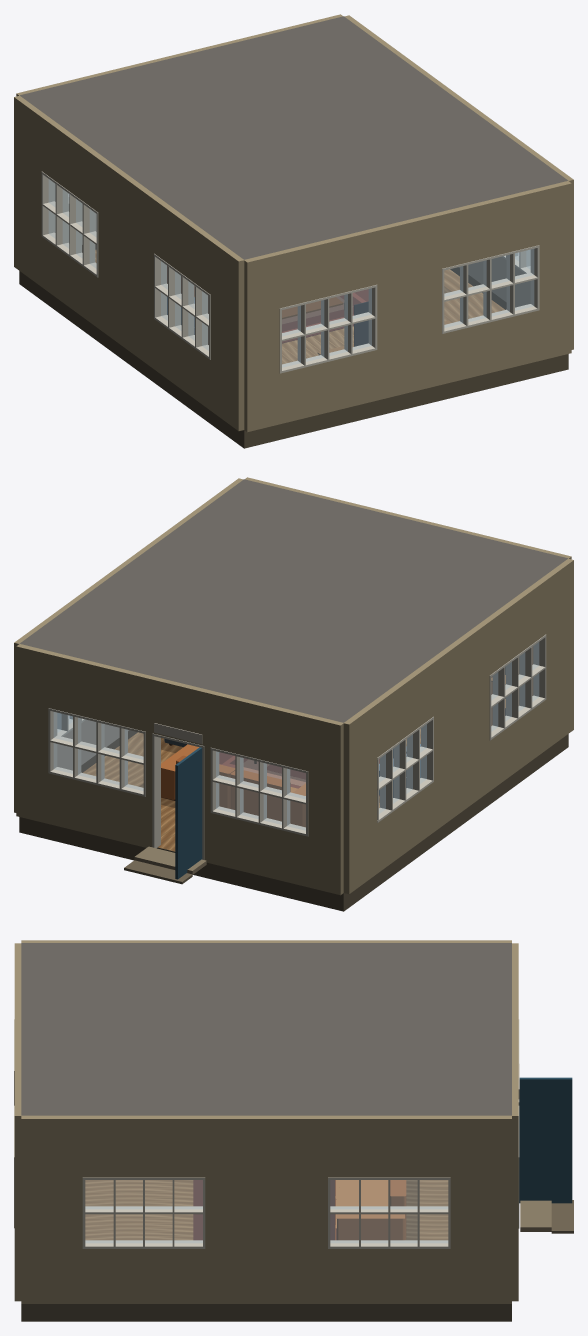
3 views of the same model, one above another, from view 1: azimuth 30°, elevation 25°; view 2: azimuth 150°, elevation 25°; view 3: azimuth 270°, elevation 25° (orthographic). The views are drawn at different scales.
Parts seen in each view (by area): view 1: static, shell:ceiling, water, floor:skin:wood-oak, asset:bordered-rug, shadows, asset:media-console; view 2: static, shell:ceiling, water, asset:modern-couch:main, floor:skin:wood-oak, asset:bordered-rug, shadows; view 3: static, shell:ceiling, water, floor:skin:wood-oak, asset:modern-couch:main, floor:skin, asset:bordered-rug, shadows.
Boxes of the visible parts, x1,y1,x2,y2 form: static: (14,14,573,448); shell:ceiling: (20,16,568,259); water: (49,179,533,367); floor:skin:wood-oak: (95,249,504,364); asset:bordered-rug: (282,289,368,343); shadows: (282,287,450,331); asset:media-console: (317,301,451,355); static: (14,477,573,911); shell:ceiling: (19,479,567,722); water: (54,642,538,830); asset:modern-couch:main: (161,744,305,827); floor:skin:wood-oak: (83,728,420,851); asset:bordered-rug: (219,752,379,796); shadows: (139,738,379,807); static: (14,940,573,1321); shell:ceiling: (21,943,511,1115); water: (85,1180,447,1242); floor:skin:wood-oak: (85,1180,448,1240); asset:modern-couch:main: (335,1180,406,1240); floor:skin: (85,1184,447,1236); asset:bordered-rug: (193,1180,336,1240); shadows: (331,1180,416,1239).
Size of the model in its own units: 6.32 by 3.39 by 8.35.
Materials: 16 (1 with a texture image).
